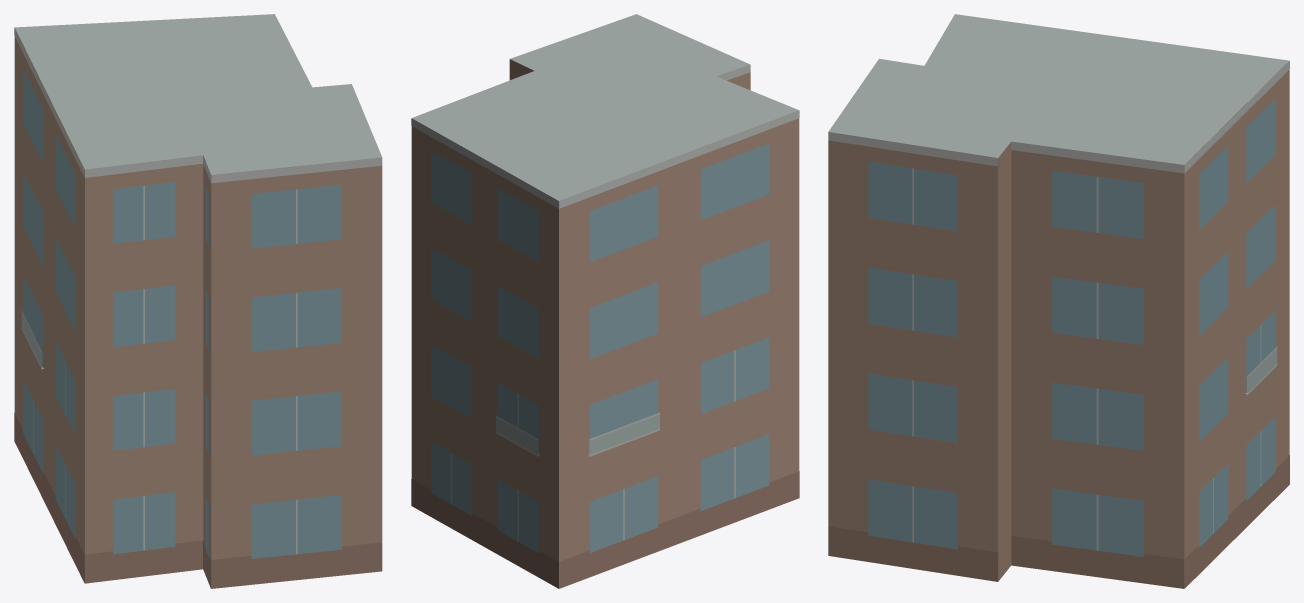
The model's file is survey-upis-32645245.glb.
3 renders of one model, left to right at view 1: azimuth 30°, elevation 25°; view 2: azimuth 150°, elevation 25°; view 3: azimuth 270°, elevation 25°, orthographic. The views are drawn at different scales.
Parts seen in each view (by area): view 1: survey-upis-32645245.tmp; view 2: survey-upis-32645245.tmp; view 3: survey-upis-32645245.tmp.
Part boxes in pixels (box(x1,y1,x2,y2)): survey-upis-32645245.tmp: box(14, 14, 382, 588); survey-upis-32645245.tmp: box(411, 14, 799, 588); survey-upis-32645245.tmp: box(828, 14, 1289, 588).
Bounding box in the file's own units: 9.33 × 12.2 × 12.05.
